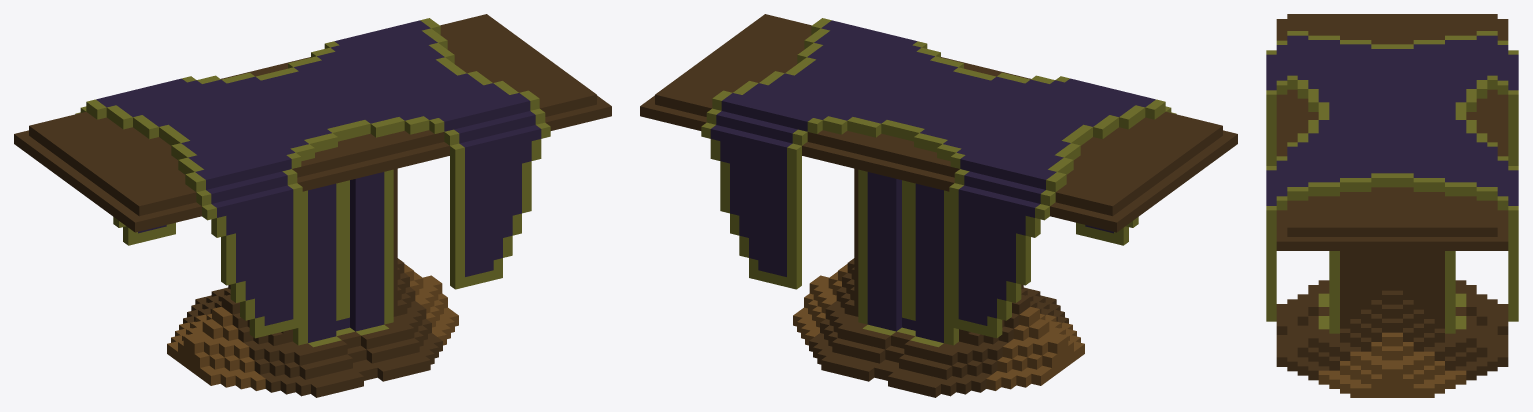
The model's file is WizardTable.obj.
3 views of the same model, side by side, from view 1: azimuth 30°, elevation 25°; view 2: azimuth 150°, elevation 25°; view 3: azimuth 270°, elevation 25° (orthographic). The views are drawn at different scales.
Visible parts, largest first — view 1: WizardTable; view 2: WizardTable; view 3: WizardTable.
Part boxes in pixels (x1,y1,x2,y2): WizardTable: (14,14,611,397); WizardTable: (640,14,1237,397); WizardTable: (1266,14,1518,397).
Bounding box in the file's own units: 50 × 24 × 24.
1 material, 1 textured.
